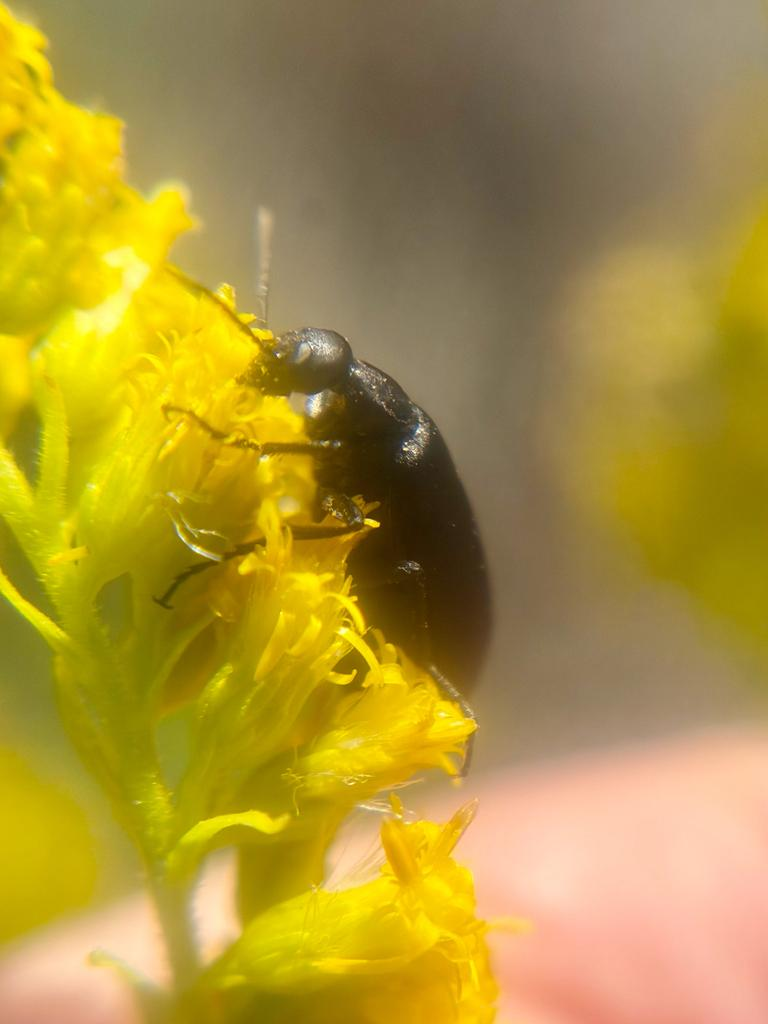blister_beetle: (62, 160, 635, 747)
